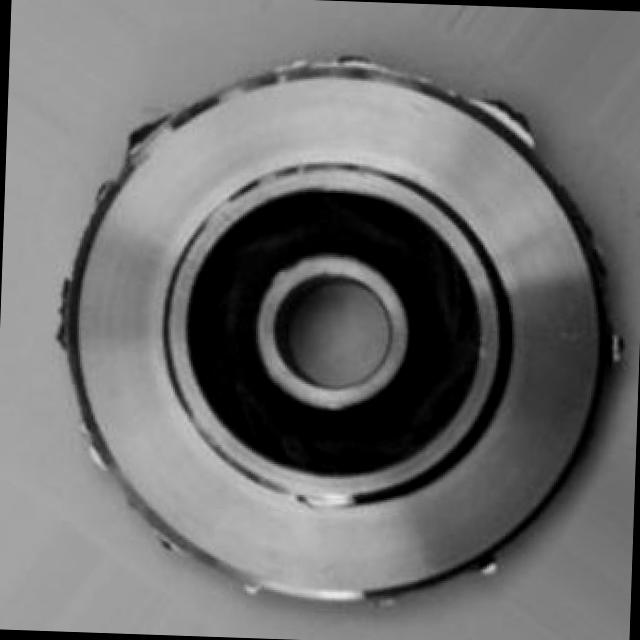Defect: (478, 84, 546, 146)
